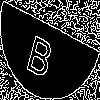B: (25, 25, 58, 80)
